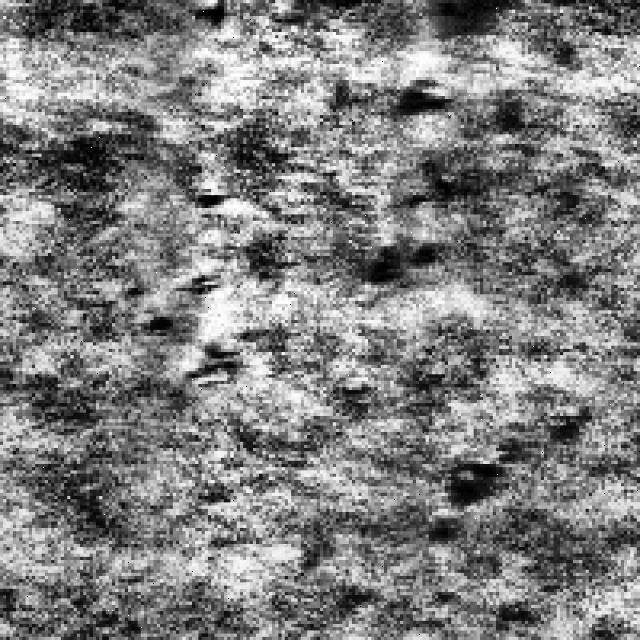Crazing: (140, 188, 278, 378), (368, 61, 477, 288), (422, 410, 582, 550)
